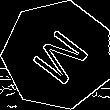M_SE: (23, 22, 93, 89)
